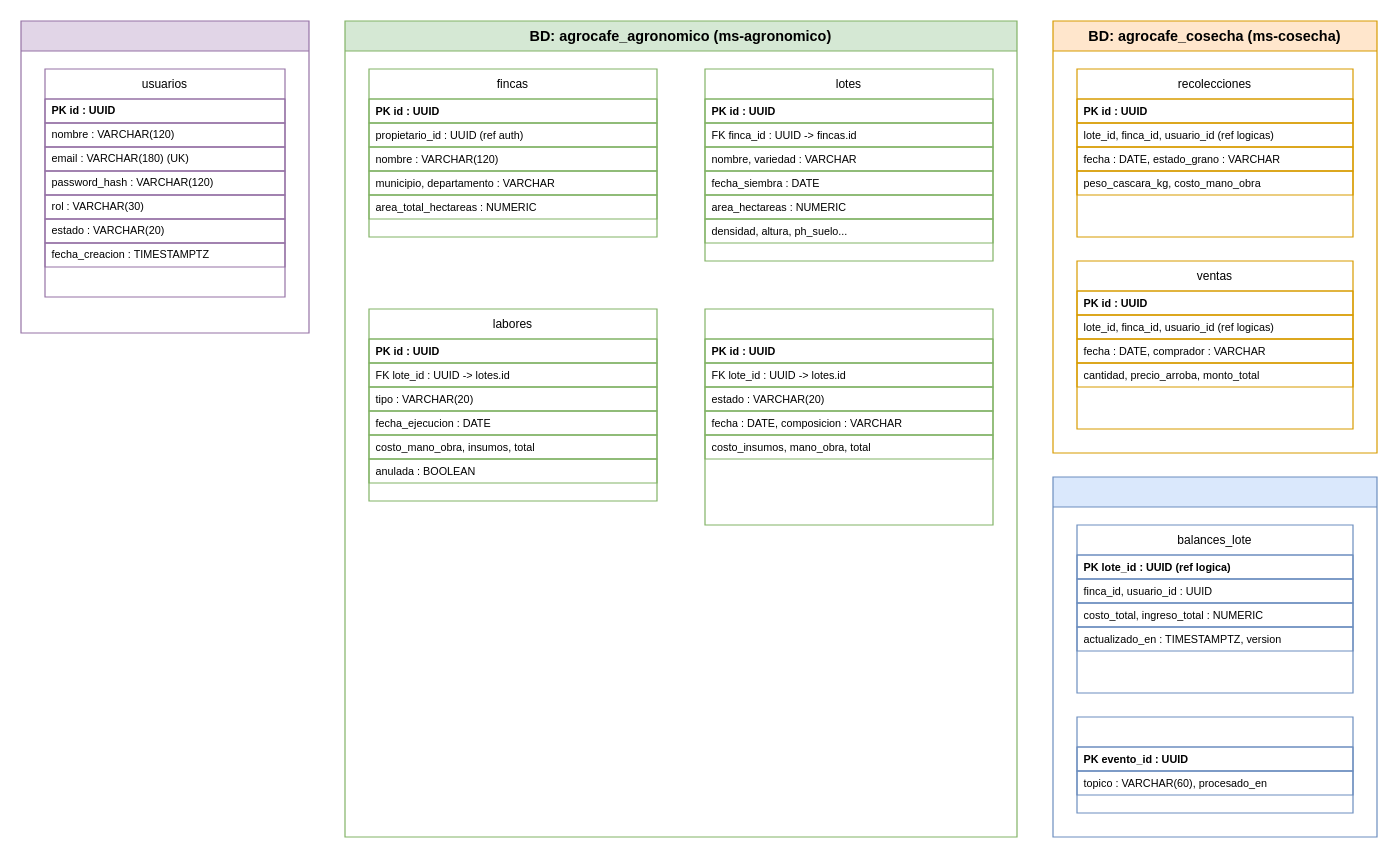
Image size: 1398x858. Some labels were removed from this diagram. The shapes that lost their labels are listed below. From the top down, each one's box as (x1, y1, x2, y2) in pixels, then its label:
(20, 20, 309, 333): BD: agrocafe_auth (ms-auth)
(704, 308, 993, 525): fertilizaciones
(1052, 476, 1377, 837): BD: agrocafe_financiero (ms-financiero)
(1076, 716, 1353, 813): eventos_procesados
